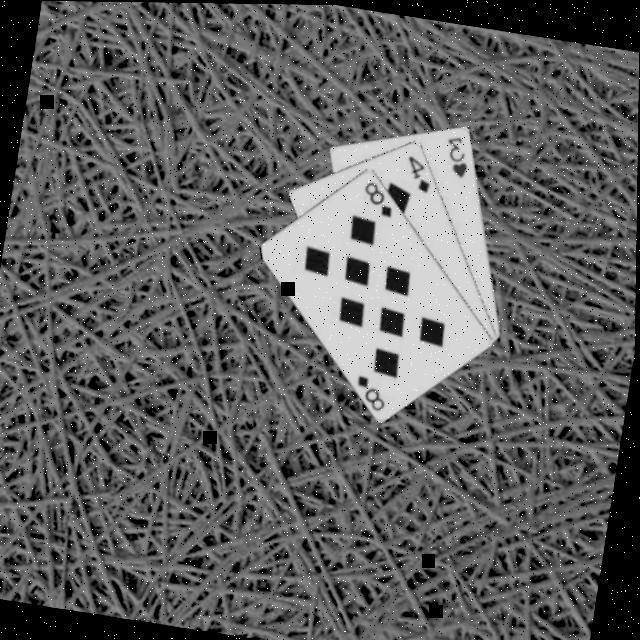3H: (438, 128, 475, 178)
4D: (400, 148, 438, 193)
8D: (350, 368, 394, 412), (358, 173, 400, 217)
